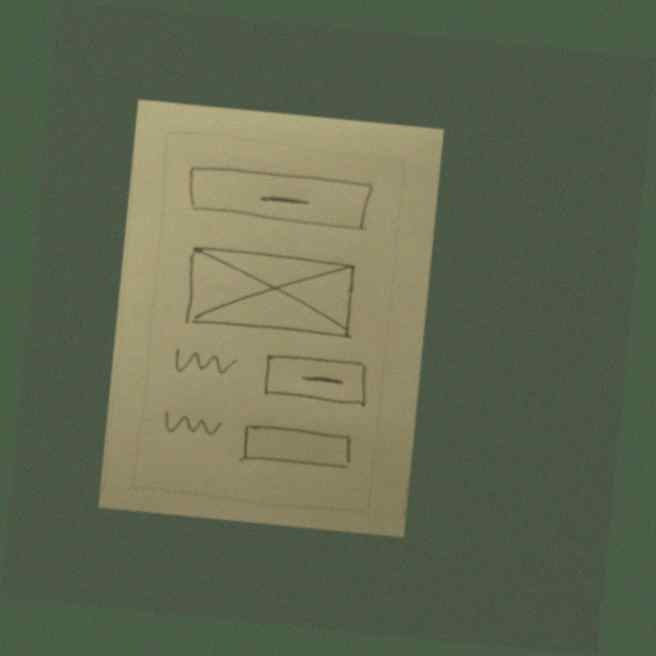button: (182, 158, 376, 238), (257, 349, 373, 409)
image: (179, 241, 363, 343)
text: (168, 342, 243, 383), (158, 407, 225, 441)
text_input: (239, 419, 357, 476)
